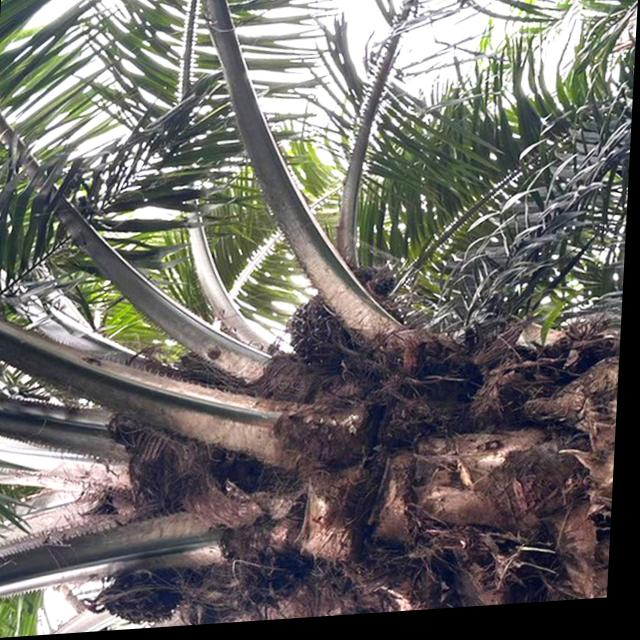almost: (278, 266, 402, 382)
